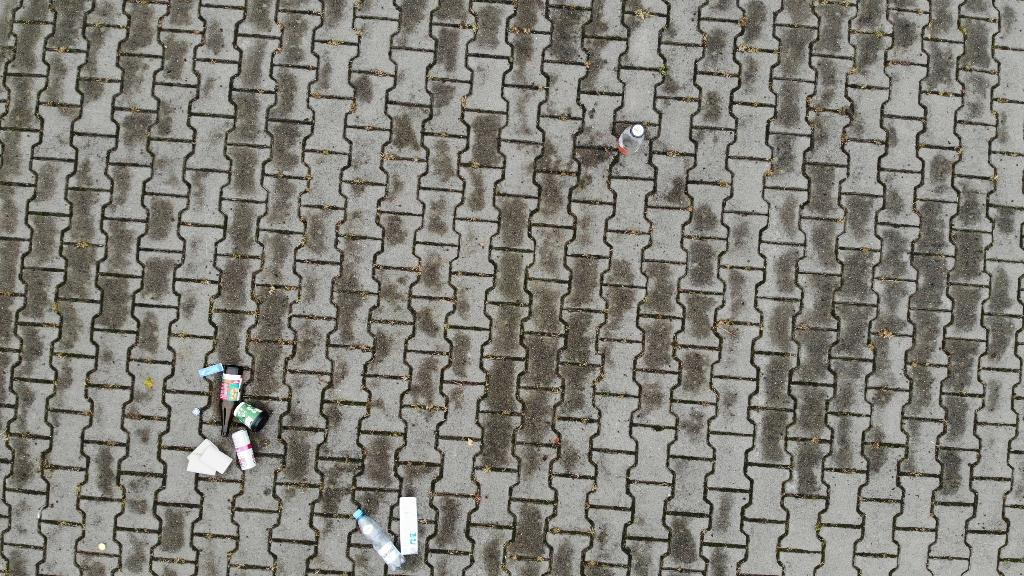garbage: (352, 510, 408, 571), (215, 360, 244, 441), (188, 439, 233, 483), (228, 428, 260, 473), (398, 498, 422, 557)
